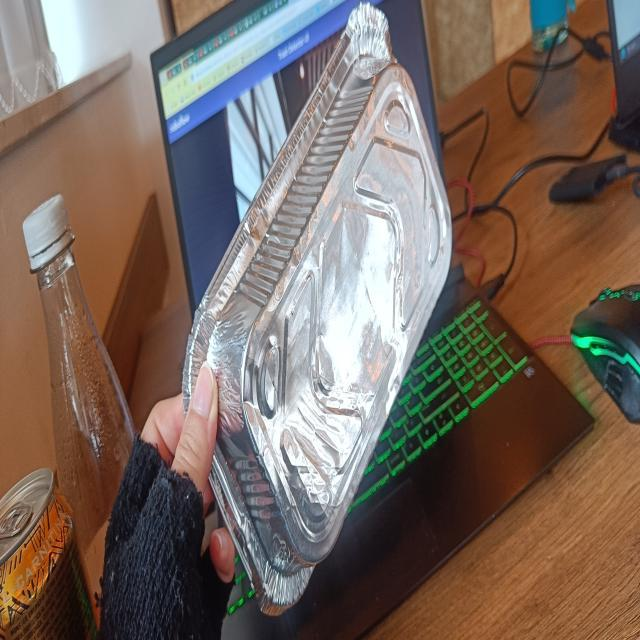Metal-waste: (178, 1, 454, 616)
bottles: (20, 192, 138, 635)
